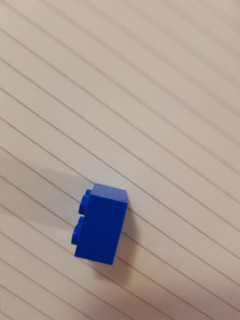2x2 blue: (70, 182, 130, 268)
